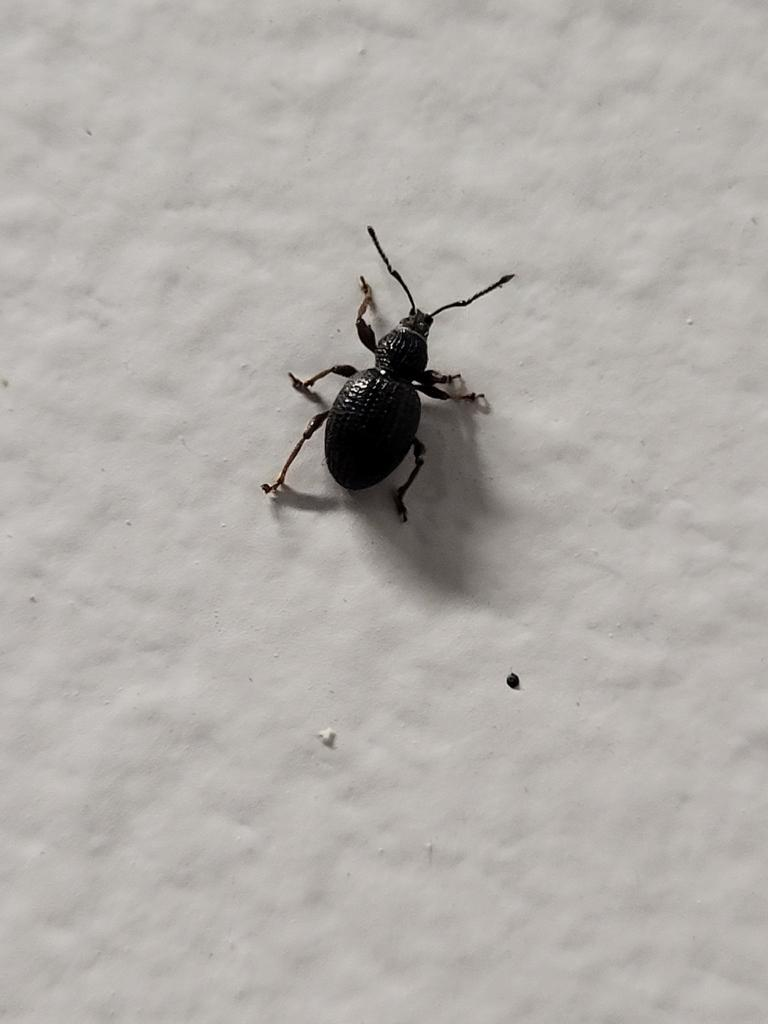weevils: (234, 206, 556, 567)
